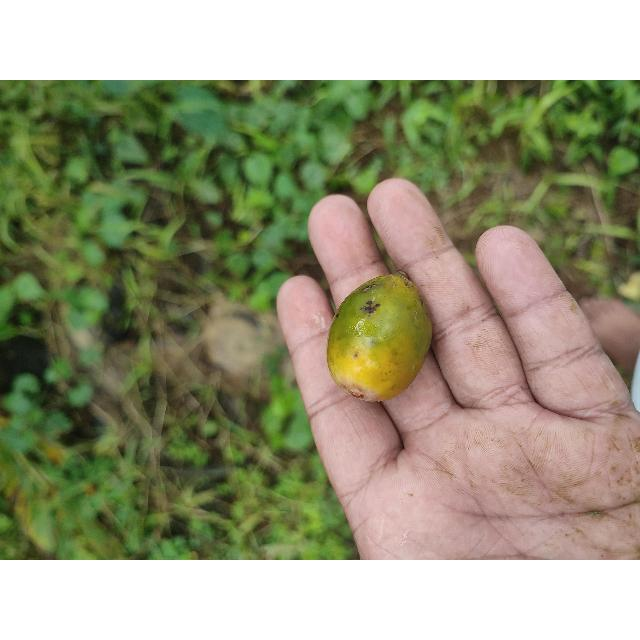good: (325, 275, 434, 404)
